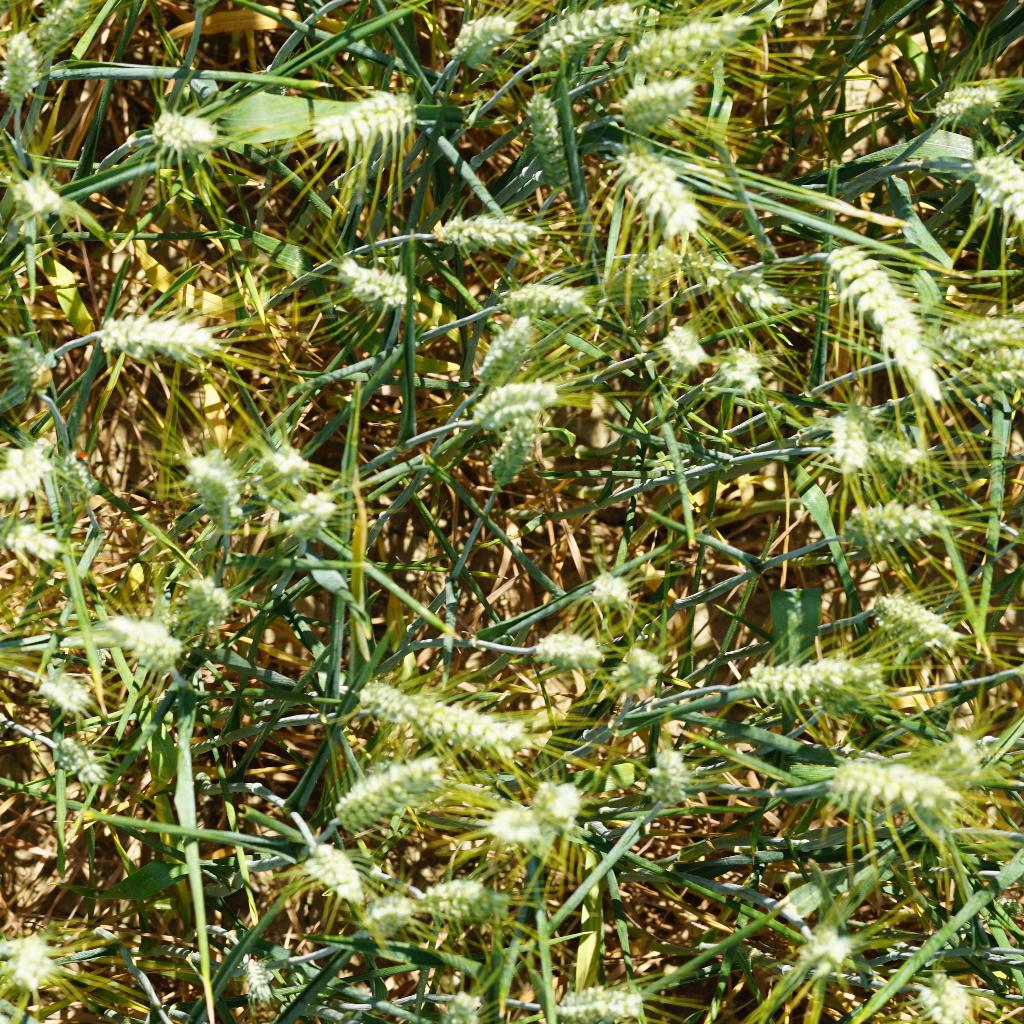0-0: (806, 225, 940, 403), (598, 129, 709, 245), (733, 638, 889, 709), (92, 288, 220, 373), (862, 585, 989, 668), (606, 0, 758, 68), (595, 60, 720, 138), (825, 754, 961, 825), (310, 746, 440, 817), (830, 475, 940, 557), (475, 402, 556, 499), (422, 204, 553, 261), (589, 245, 699, 311), (296, 90, 413, 148), (952, 134, 1024, 225), (534, 0, 645, 59), (426, 702, 533, 763), (485, 269, 602, 324), (920, 66, 1024, 125), (933, 714, 1006, 795), (714, 336, 781, 422), (93, 609, 180, 675), (417, 871, 512, 931), (328, 246, 418, 309), (773, 912, 864, 974), (178, 441, 245, 522), (453, 318, 539, 381), (168, 563, 247, 628), (549, 978, 660, 1024), (530, 89, 575, 202), (912, 959, 990, 1024), (440, 8, 520, 70), (448, 381, 557, 426), (148, 102, 222, 168), (296, 834, 365, 904), (247, 429, 317, 497), (863, 418, 927, 492), (223, 945, 290, 1015), (0, 432, 66, 503), (467, 793, 544, 852), (937, 299, 1024, 351), (26, 657, 100, 718), (29, 728, 107, 785), (643, 746, 699, 823), (942, 344, 1024, 396), (0, 165, 70, 223), (804, 414, 875, 471), (534, 772, 595, 836), (0, 938, 64, 999), (720, 262, 791, 316), (531, 620, 604, 672), (0, 30, 45, 114), (0, 501, 62, 561), (354, 669, 417, 728), (32, 0, 108, 47), (0, 331, 55, 395), (287, 489, 351, 539), (653, 318, 703, 381), (609, 643, 672, 688), (565, 564, 631, 606), (367, 896, 422, 945), (434, 990, 501, 1024)
